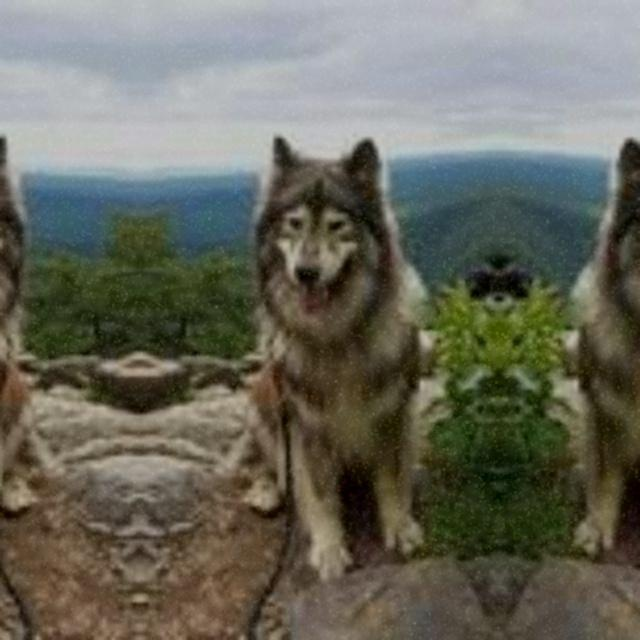dog: (172, 129, 450, 601), (0, 129, 109, 601), (550, 129, 640, 601)
